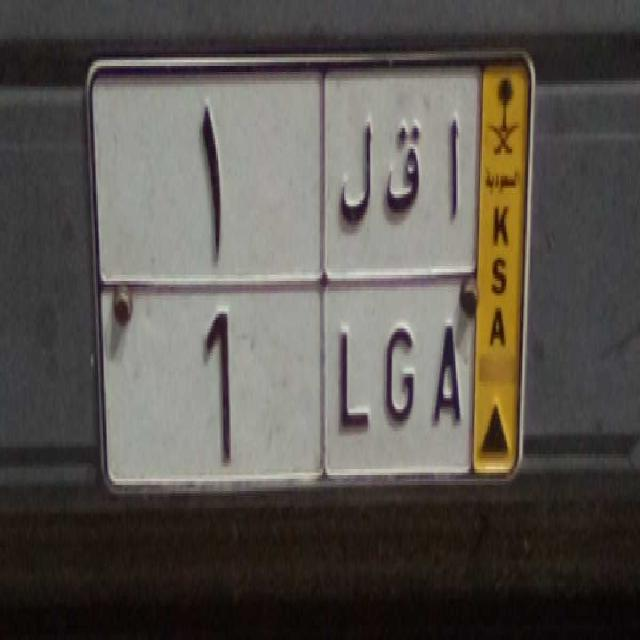license_plate: (97, 272, 475, 488)
